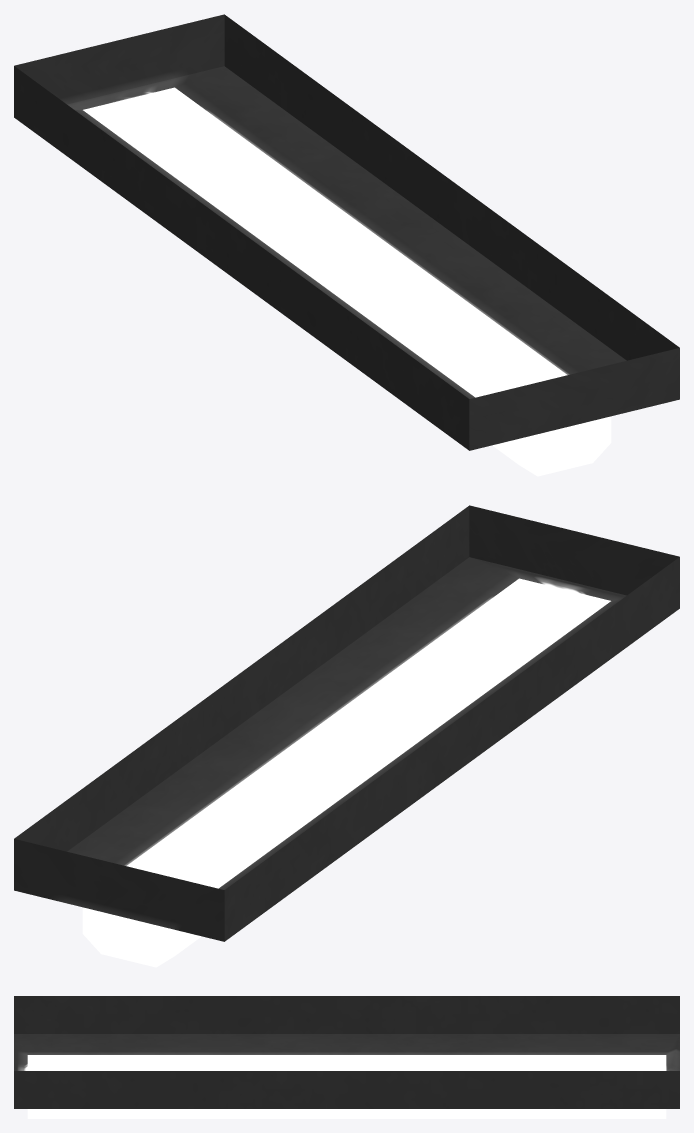
3 renders of one model, top to bottom at view 1: azimuth 30°, elevation 25°; view 2: azimuth 150°, elevation 25°; view 3: azimuth 270°, elevation 25°, orthographic. The views are drawn at different scales.
Visible parts, largest first — view 1: Neon8; view 2: Neon8; view 3: Neon8.
Part boxes in pixels (x1,y1,x2,y2): Neon8: (14,14,679,476); Neon8: (14,505,679,967); Neon8: (14,996,679,1118).
Size of the model in its own units: 0.3443 by 0.1615 by 1.29.
1 material, 1 textured.
